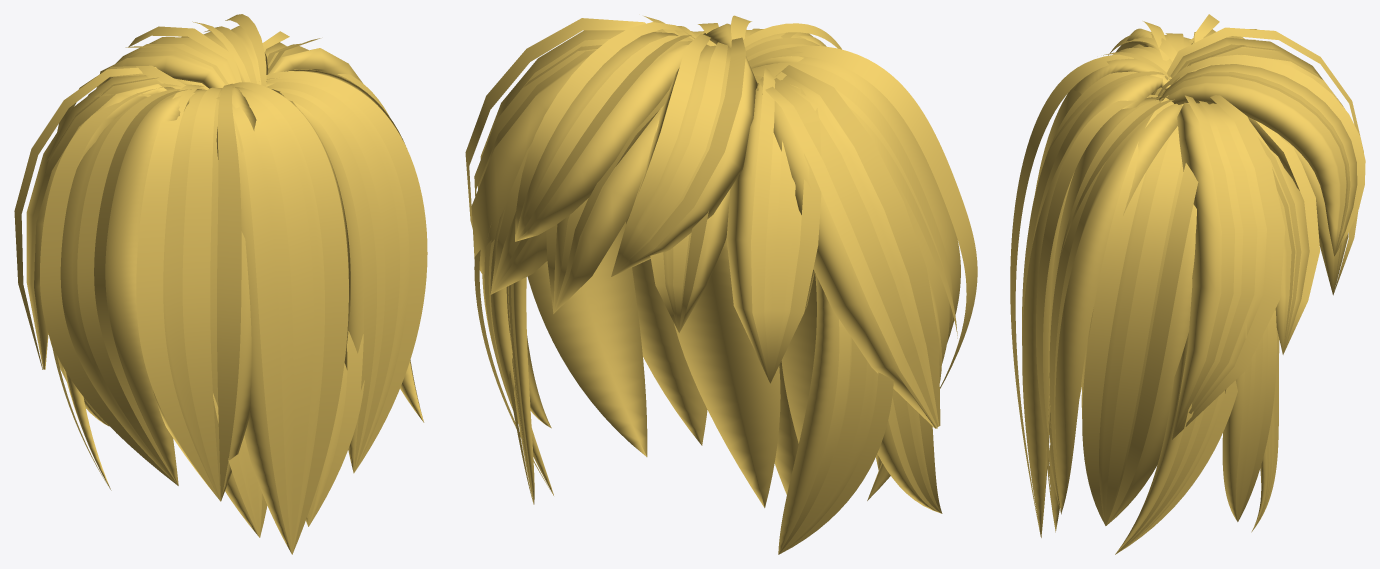
The model's file is shanghai_hair.glb.
3 renders of one model, left to right at view 1: azimuth 30°, elevation 25°; view 2: azimuth 150°, elevation 25°; view 3: azimuth 270°, elevation 25°, orthographic. The views are drawn at different scales.
Parts seen in each view (by area): view 1: Hair; view 2: Hair; view 3: Hair.
Boxes of the visible parts, x1,y1,x2,y2 form: Hair: (14,14,427,554); Hair: (465,15,977,554); Hair: (1010,14,1365,554).
Bounding box in the file's own units: 1.97 × 2.28 × 1.5.
